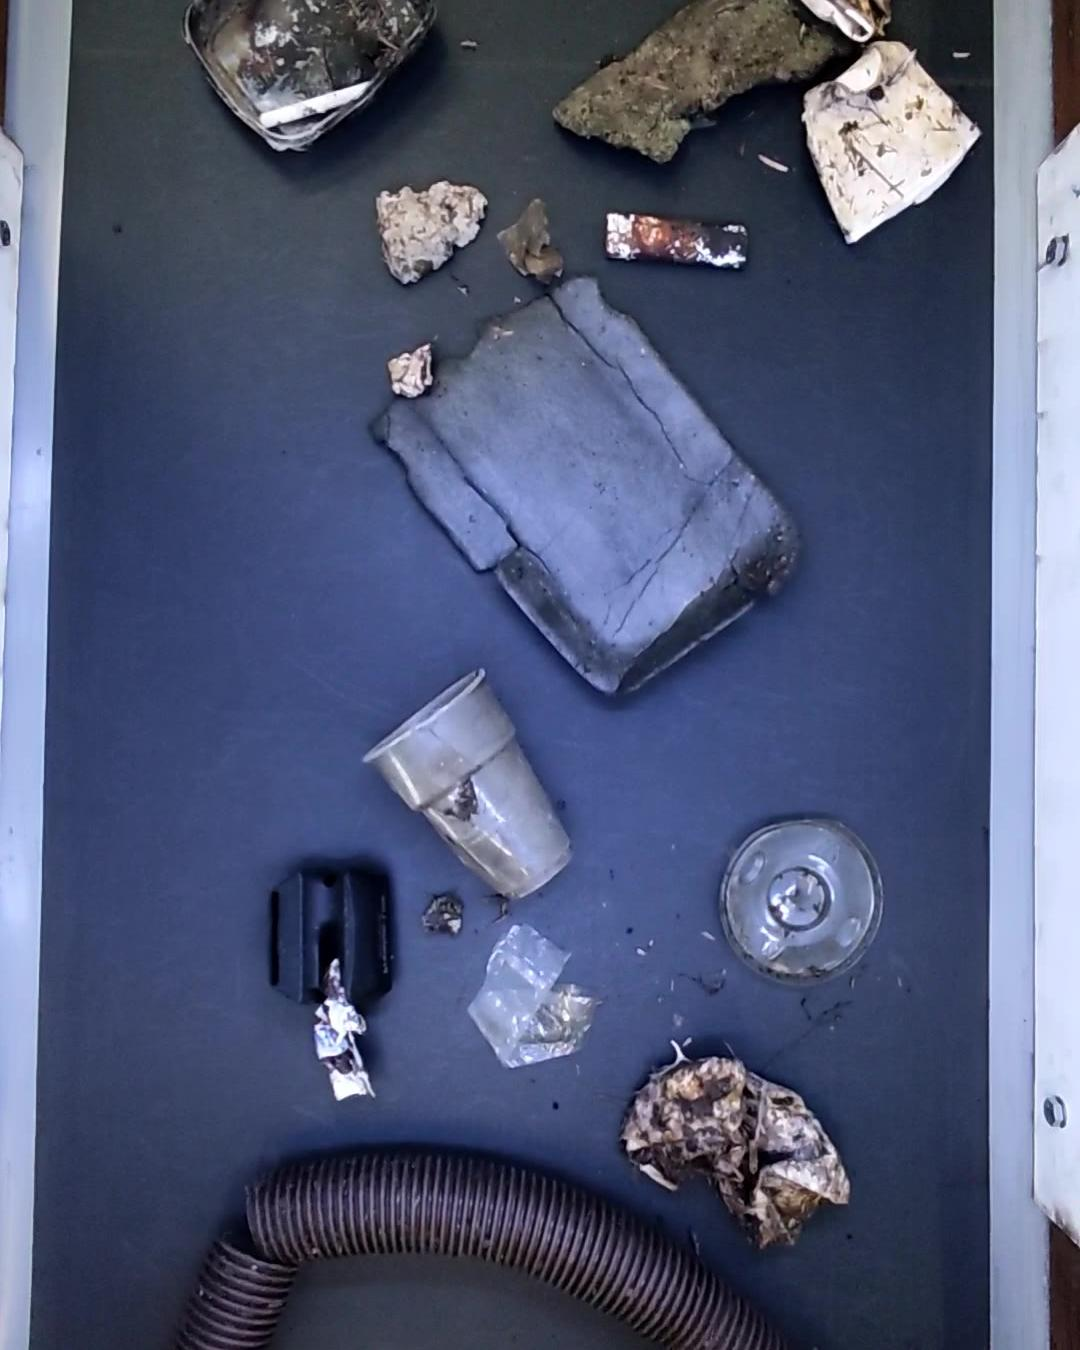Plastic folies of stukken daarvan 2.5- 50 cm: (473, 919, 603, 1070), (311, 964, 374, 1103)
Voedselverpakkingen: (180, 0, 435, 150)
